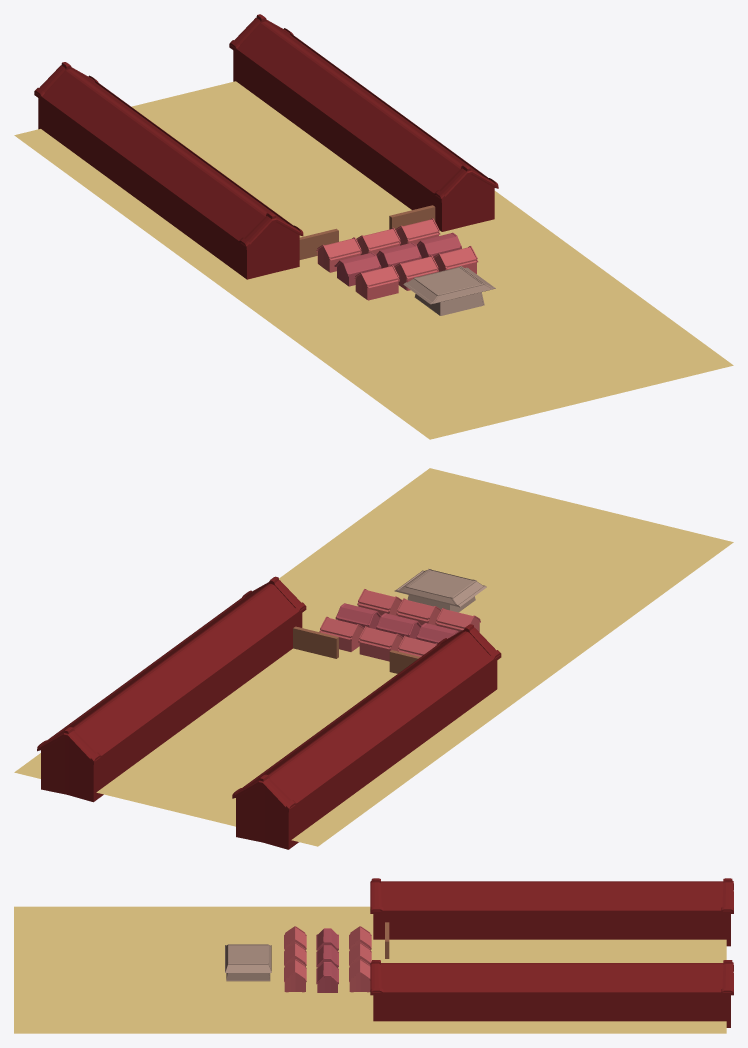
File: SusakuStage3.fbx
3 renders of one model, top to bottom at view 1: azimuth 30°, elevation 25°; view 2: azimuth 150°, elevation 25°; view 3: azimuth 270°, elevation 25°, orthographic. The views are drawn at different scales.
Parts seen in each view (by area): view 1: Plane.001, Cube.009, Cube.005, Cube.006, Cube.008, Cube.007, Cube.010; view 2: Plane.001, Cube.009, Cube.008, Cube.005, Cube.006, Cube.007, Cube.010; view 3: Plane.001, Cube.009, Cube.005, Cube.006, Cube.007, Cube.008.
Part boxes in pixels (x1=…): Plane.001: x1=14, y1=81, x2=733, y2=439; Cube.009: x1=34, y1=14, x2=498, y2=279; Cube.005: x1=403, y1=266, x2=495, y2=315; Cube.006: x1=354, y1=246, x2=478, y2=300; Cube.008: x1=316, y1=218, x2=440, y2=272; Cube.007: x1=334, y1=232, x2=461, y2=286; Cube.010: x1=299, y1=205, x2=435, y2=259; Plane.001: x1=14, y1=468, x2=733, y2=846; Cube.009: x1=37, y1=576, x2=501, y2=849; Cube.008: x1=319, y1=616, x2=437, y2=661; Cube.005: x1=394, y1=569, x2=486, y2=612; Cube.006: x1=357, y1=589, x2=480, y2=632; Cube.007: x1=335, y1=603, x2=458, y2=643; Cube.010: x1=293, y1=626, x2=420, y2=673; Plane.001: x1=14, y1=906, x2=726, y2=1033; Cube.009: x1=370, y1=878, x2=733, y2=1027; Cube.005: x1=225, y1=944, x2=271, y2=981; Cube.006: x1=284, y1=926, x2=306, y2=992; Cube.007: x1=316, y1=928, x2=338, y2=992; Cube.008: x1=349, y1=926, x2=371, y2=992.
Bounding box in the file's own units: 79.67 × 16.51 × 191.
